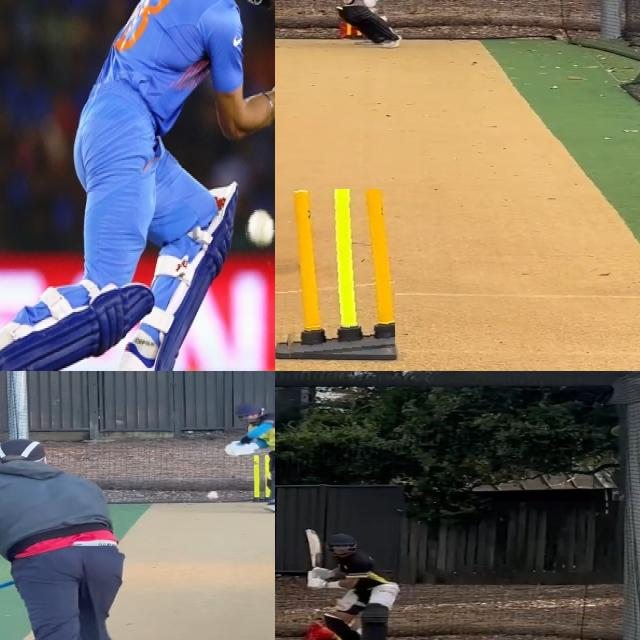Cricket ball: (244, 206, 275, 252), (206, 491, 220, 501)
Stumps: (275, 189, 395, 358)
